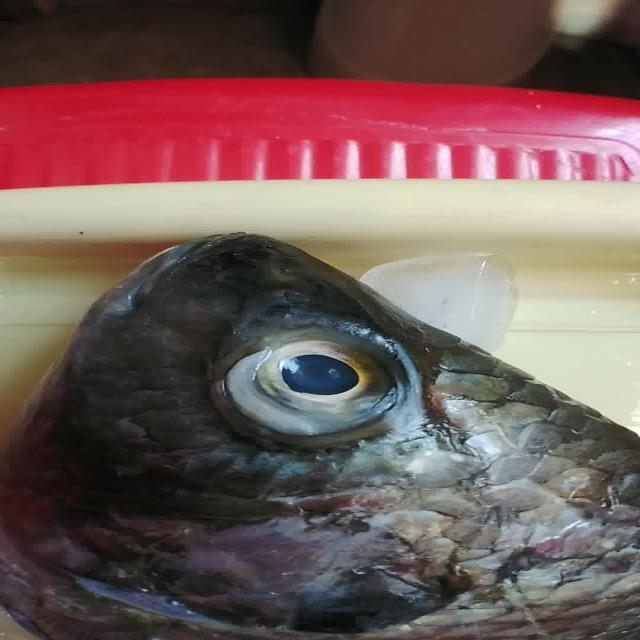Fresh: (196, 316, 462, 442)
